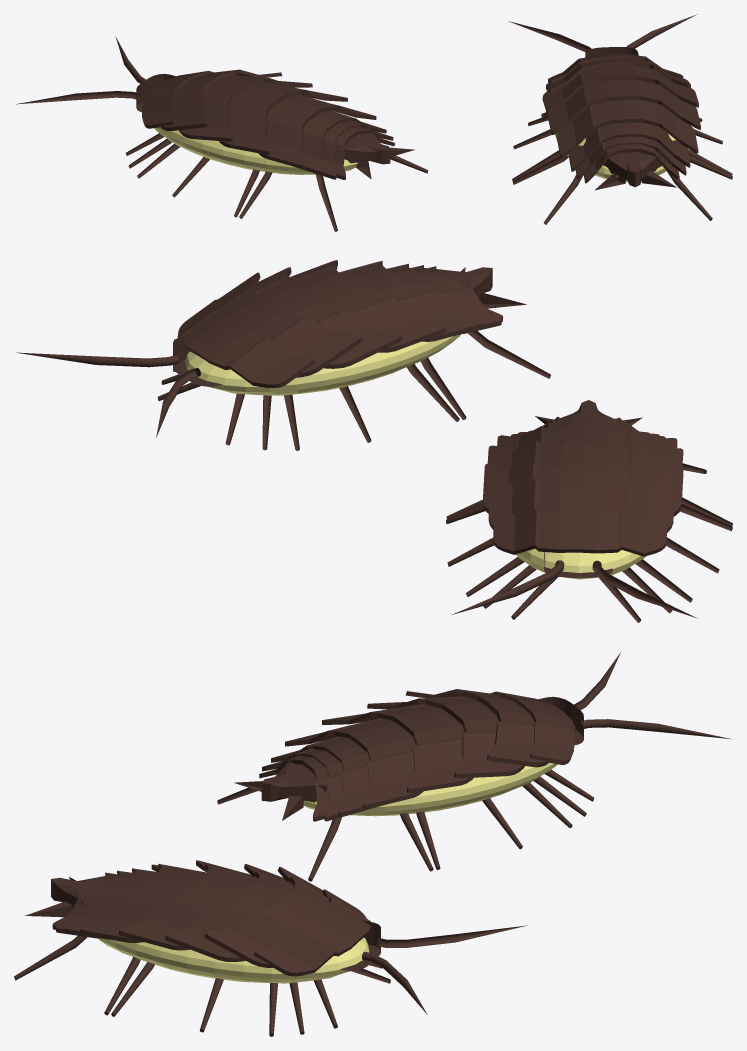
Rendered from woodLouse.glb.
The picture shows the model from 3 angles, top to bottom: view 1: azimuth 30°, elevation 25°; view 2: azimuth 150°, elevation 25°; view 3: azimuth 270°, elevation 25°; orthographic projection. The views are drawn at different scales.
Visible parts, largest first — view 1: Cube.008, Cube.006; view 2: Cube.006, Cube.008; view 3: Cube.008, Cube.006.
Boxes of the visible parts, x1,y1,x2,y2 form: Cube.008: (16, 36, 428, 231); Cube.006: (508, 14, 732, 224); Cube.006: (16, 260, 550, 450); Cube.008: (446, 400, 732, 622); Cube.008: (217, 652, 731, 881); Cube.006: (14, 860, 527, 1036).
Bounding box in the file's own units: 0.299 × 0.0355 × 0.2492.
